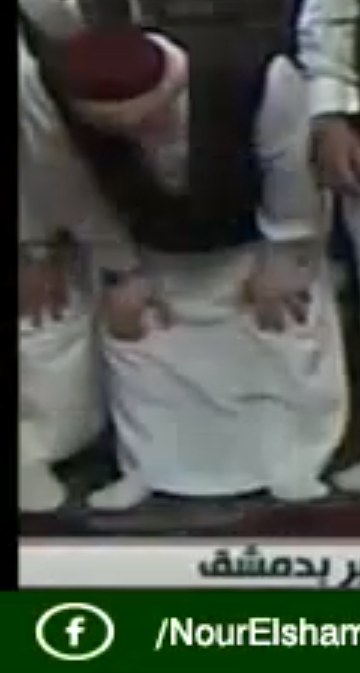ruku: (16, 21, 359, 525)
